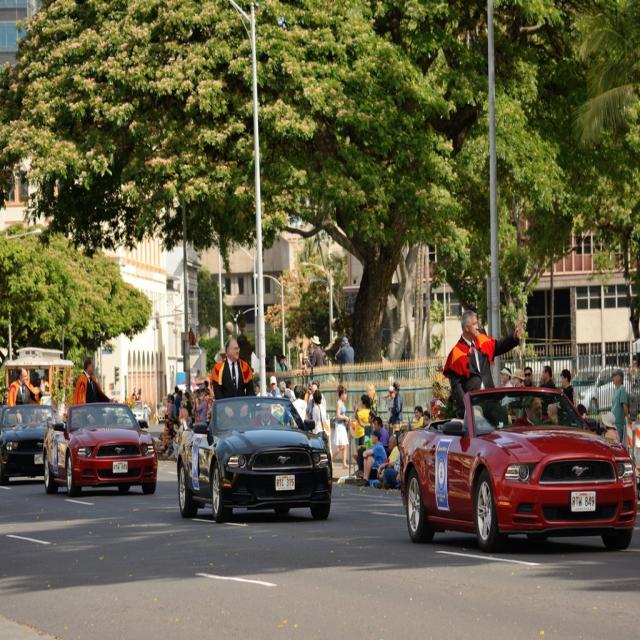car: (398, 379, 639, 552), (172, 390, 337, 518), (41, 398, 157, 493)
